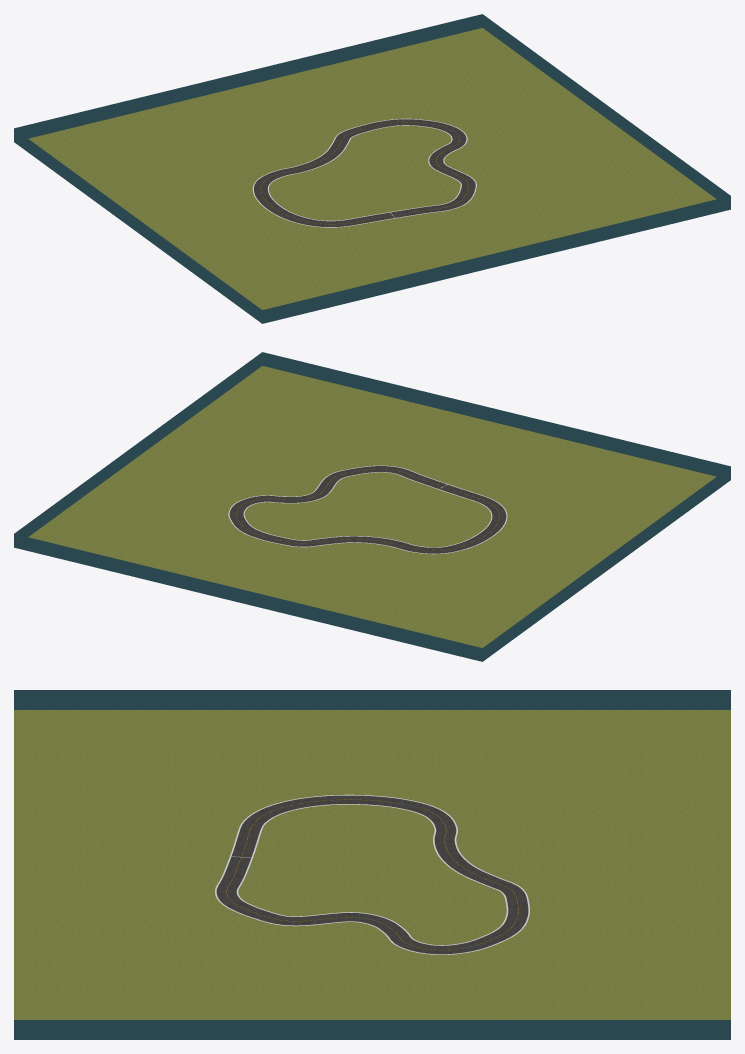
Rendered from 2022_march_open.dae.
3 views of the same model, one above another, from view 1: azimuth 30°, elevation 25°; view 2: azimuth 150°, elevation 25°; view 3: azimuth 270°, elevation 25° (orthographic). The views are drawn at different scales.
Parts seen in each view (by area): view 1: field, wall, road, ol, il; view 2: field, wall, road, ol, il; view 3: field, wall, road, ol, il.
Part boxes in pixels (<box>): field: <box>28,28,716,309</box>; wall: <box>14,14,730,323</box>; road: <box>254,119,475,226</box>; ol: <box>252,118,476,227</box>; il: <box>267,125,461,221</box>; field: <box>28,366,716,647</box>; wall: <box>14,352,730,661</box>; road: <box>229,466,506,553</box>; ol: <box>228,465,507,554</box>; il: <box>243,472,492,547</box>; field: <box>14,710,730,1019</box>; wall: <box>14,690,730,1039</box>; road: <box>216,795,528,954</box>; ol: <box>215,794,529,954</box>; il: <box>236,804,508,945</box>.
Size of the model in its own units: 35.54 by 32.63 by 1.
7 materials, 7 textured.
